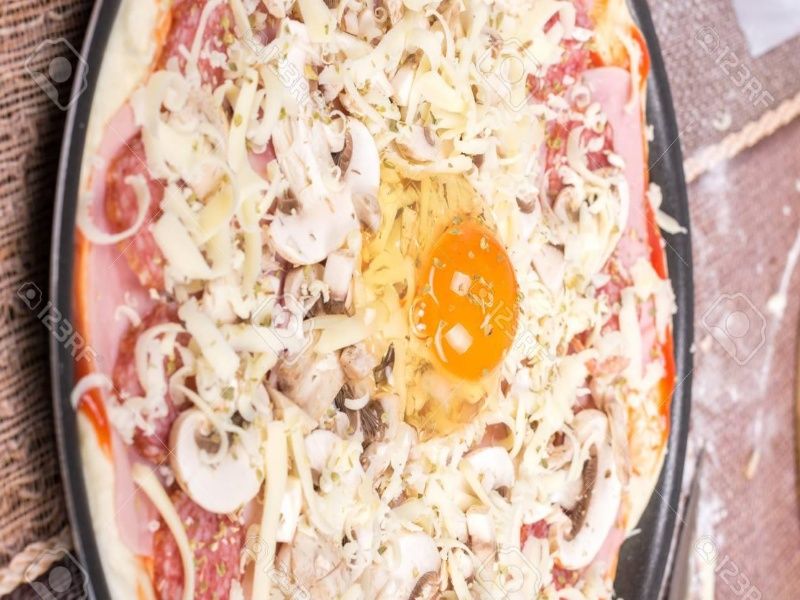champignon: (247, 111, 403, 270), (161, 393, 276, 520), (547, 404, 626, 572)
oeuf: (386, 204, 526, 396)
